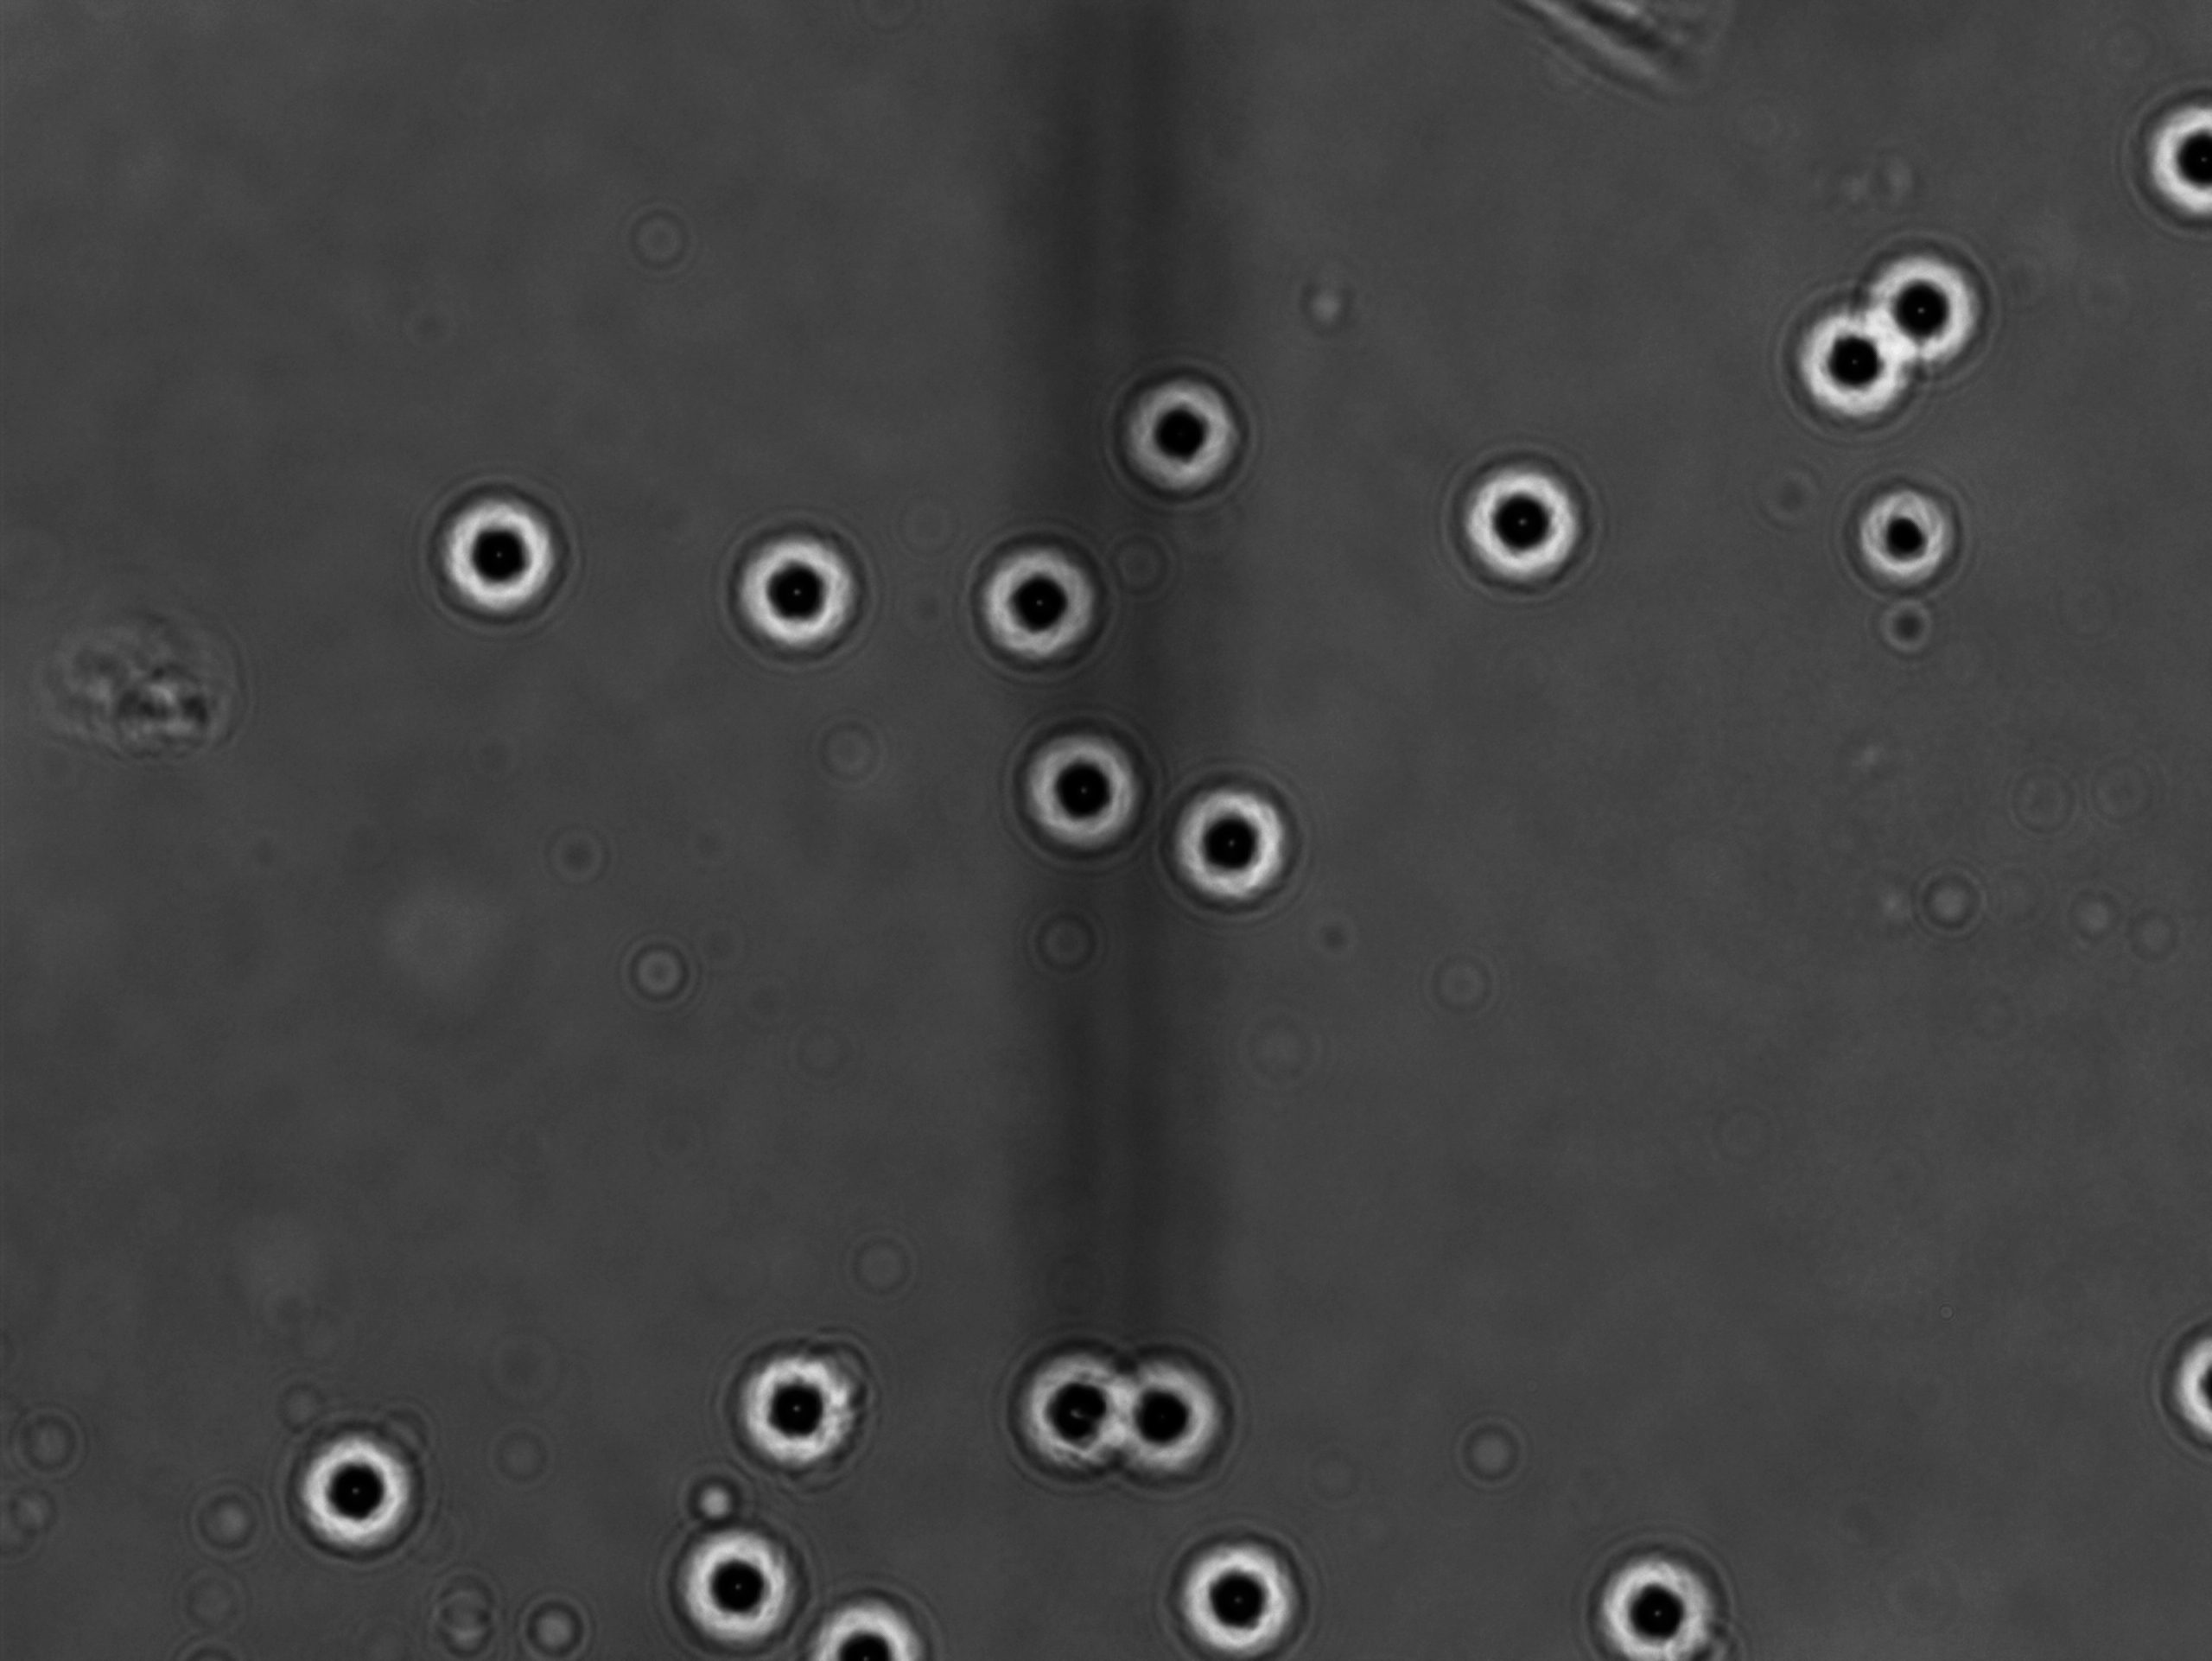depth:-20: (1015, 694, 1176, 872), (276, 1403, 445, 1569), (720, 1333, 897, 1488), (649, 1509, 829, 1661), (1139, 769, 1312, 926), (1441, 440, 1601, 604), (1000, 1338, 1158, 1504), (1099, 356, 1266, 513), (1116, 1314, 1270, 1483), (419, 473, 579, 632), (705, 529, 867, 684), (961, 520, 1113, 680), (1751, 286, 1908, 440), (1570, 1535, 1755, 1661), (1165, 1516, 1324, 1661), (1853, 232, 1990, 387), (808, 1574, 946, 1661)
